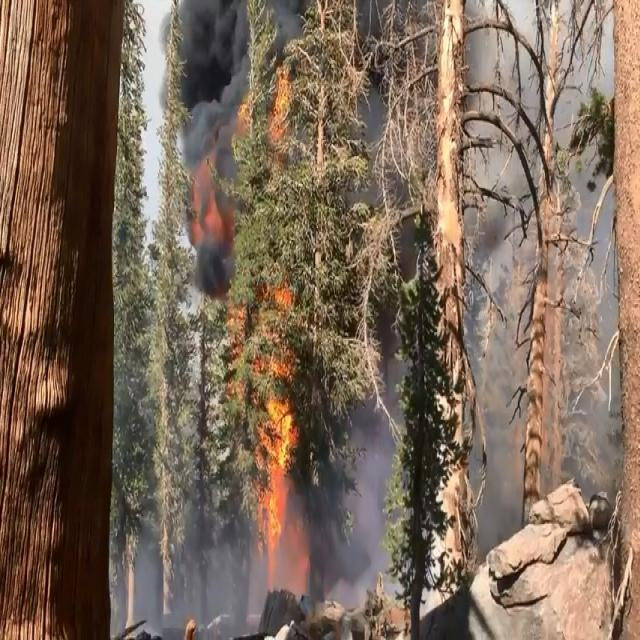Fire: (189, 62, 310, 590)
